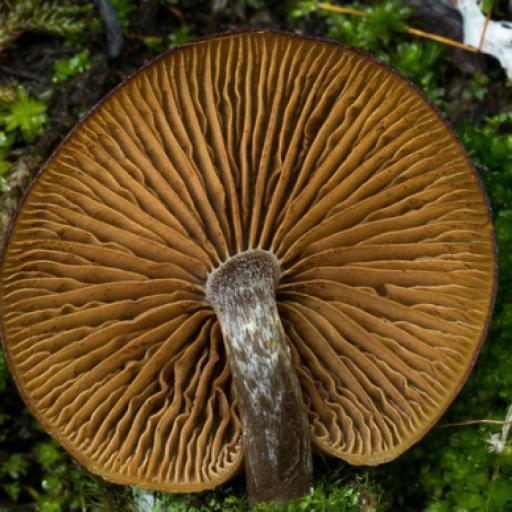mushroom: (4, 31, 495, 491)
